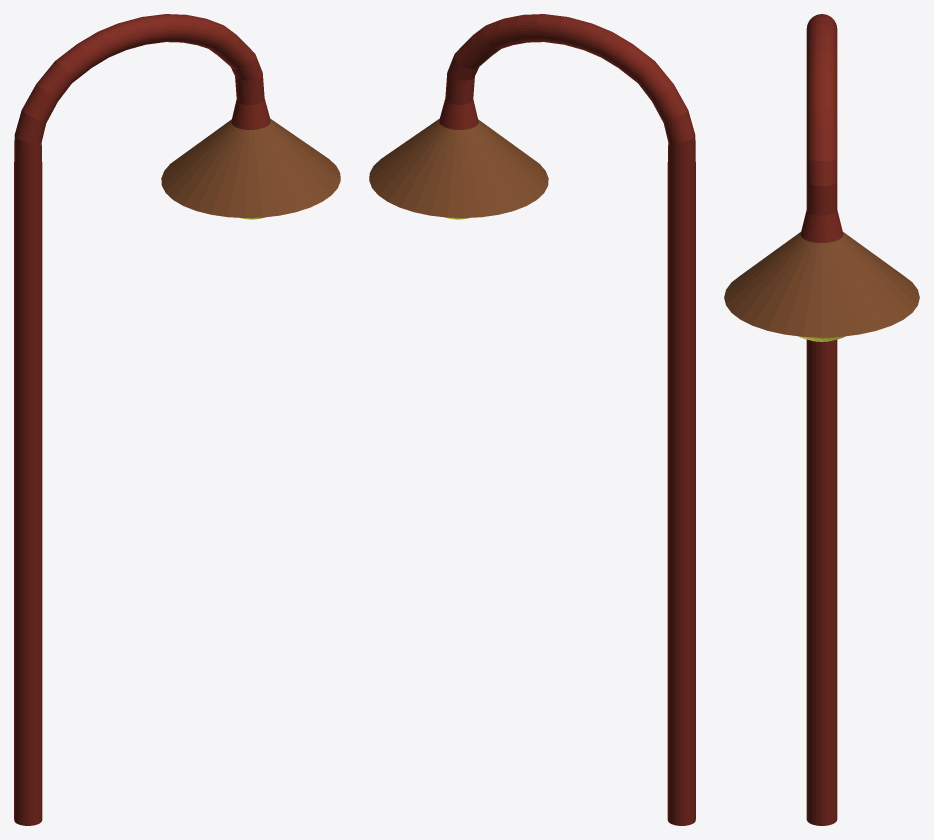
Rendered from lamp 2.fbx.
3 renders of one model, left to right at view 1: azimuth 30°, elevation 25°; view 2: azimuth 150°, elevation 25°; view 3: azimuth 270°, elevation 25°, orthographic. The views are drawn at different scales.
Visible parts, largest first — view 1: фонарь; view 2: фонарь; view 3: фонарь.
Part boxes in pixels (x1,y1,x2,y2): фонарь: [14, 14, 340, 825]; фонарь: [369, 14, 695, 825]; фонарь: [724, 14, 919, 825].
Size of the model in its own units: 248 by 584 by 123.
